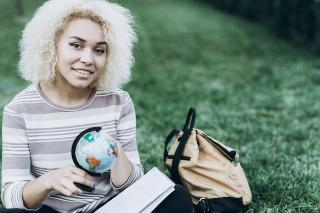person - v3 P: (0, 0, 143, 212)
